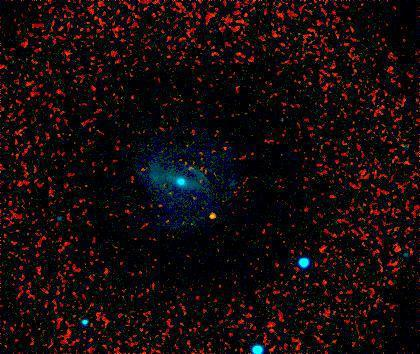star: (197, 202, 227, 232)
